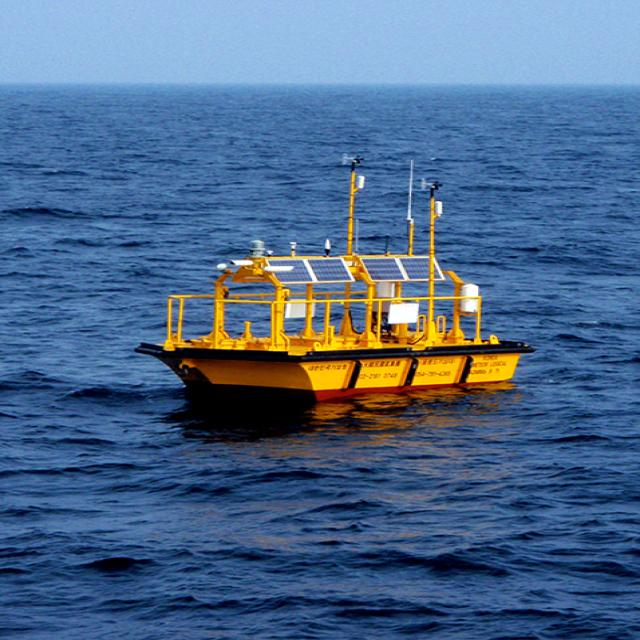2.5 sepcial mark: (124, 112, 537, 452)
